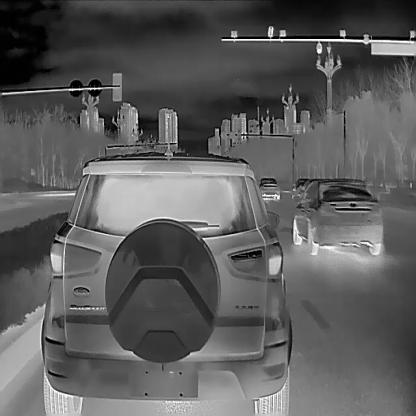car: (41, 152, 297, 415), (291, 177, 384, 255), (259, 176, 280, 200), (295, 178, 319, 197)
light: (112, 72, 126, 103)
